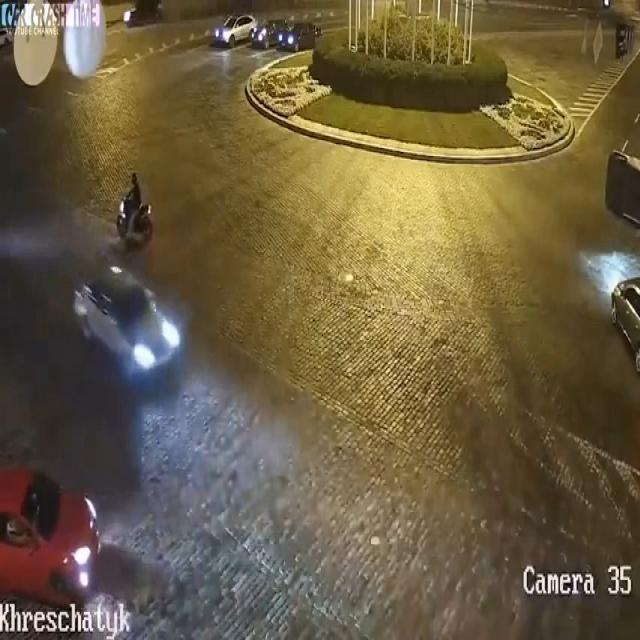Accident: (605, 105, 640, 272)
